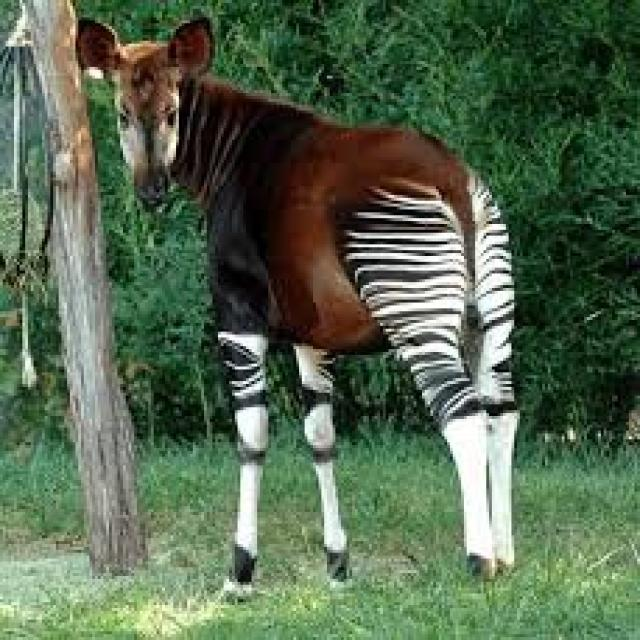Okapi: (66, 9, 530, 602)
